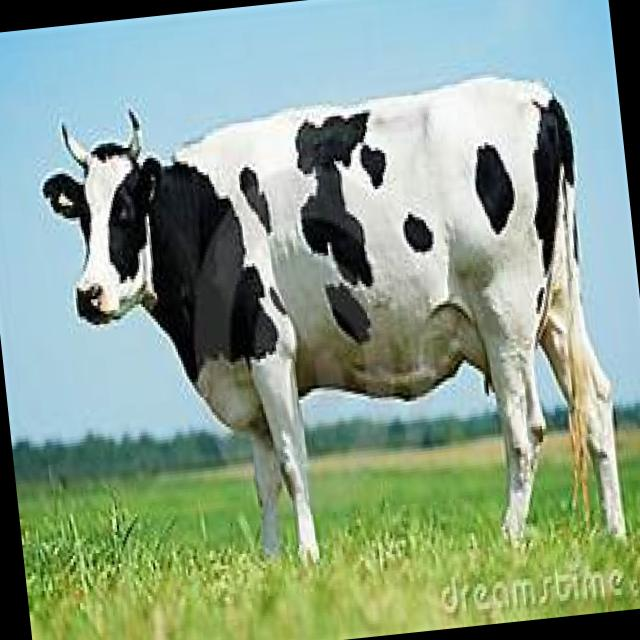cow: (32, 62, 631, 600)
